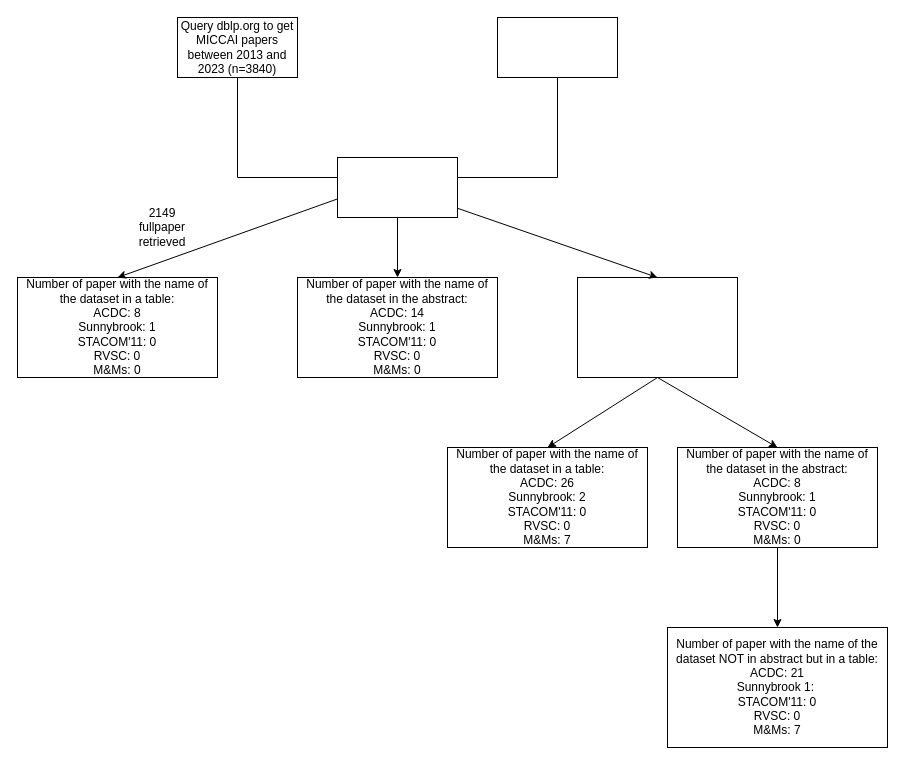
Some shapes in this 905 by 765 pixel diagram are drawn without their labels. The shapes that lost their labels are listed below. From the top down, each one's box as (x1, y1, x2, y2) in pixels, then its label:
(496, 16, 618, 78): 5 cardiac datasets
(336, 156, 458, 218): Query OpenAlex
(576, 276, 738, 378): Papers Referencing a dataset ACDC: 40 Sunnybrook: 5 STACOM'11: 0 RVSC: 1 M&Ms: 8
